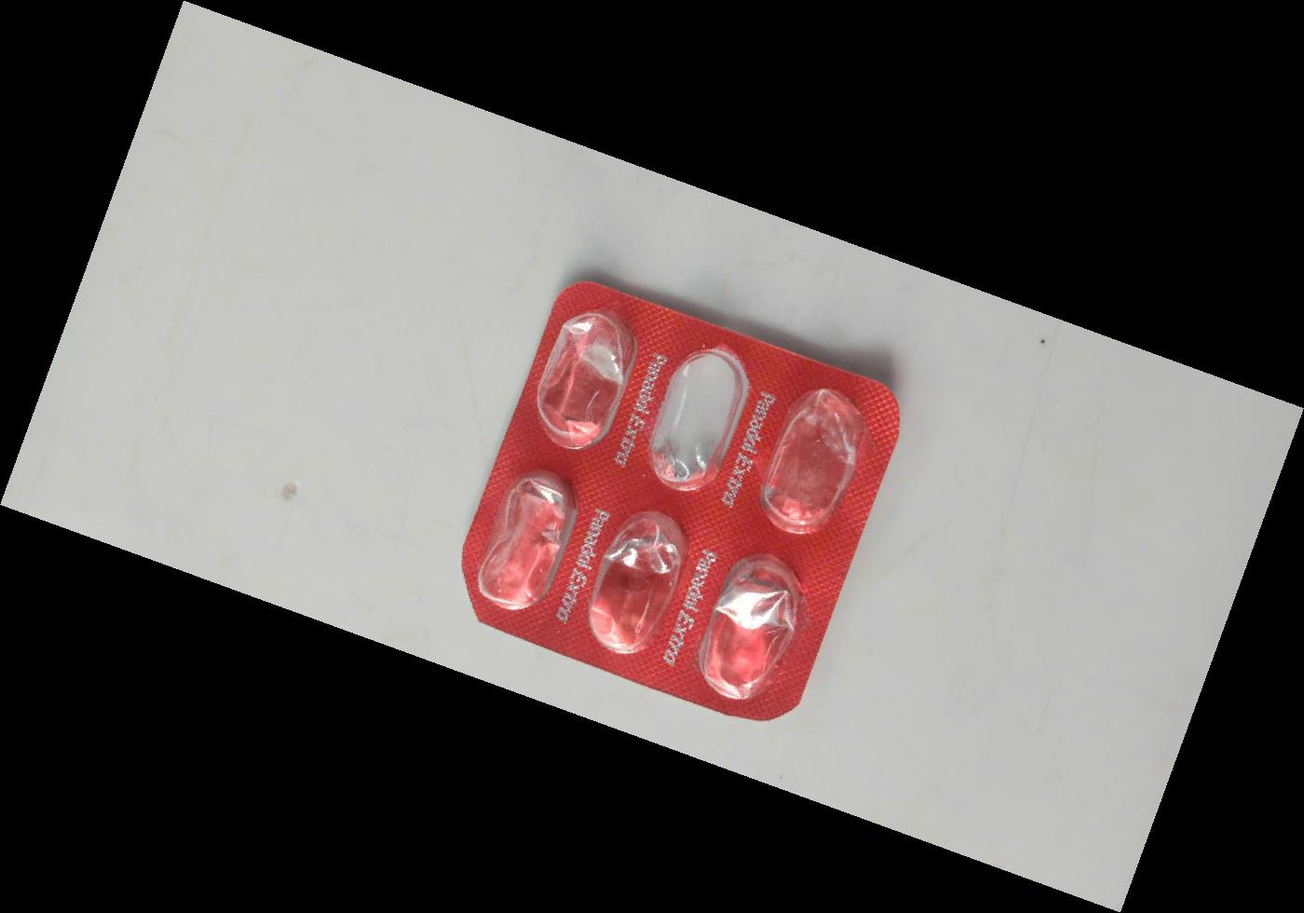Empty: (561, 494, 713, 673), (450, 452, 602, 630), (621, 326, 772, 505), (735, 374, 886, 552), (676, 540, 827, 718), (513, 290, 664, 467)
